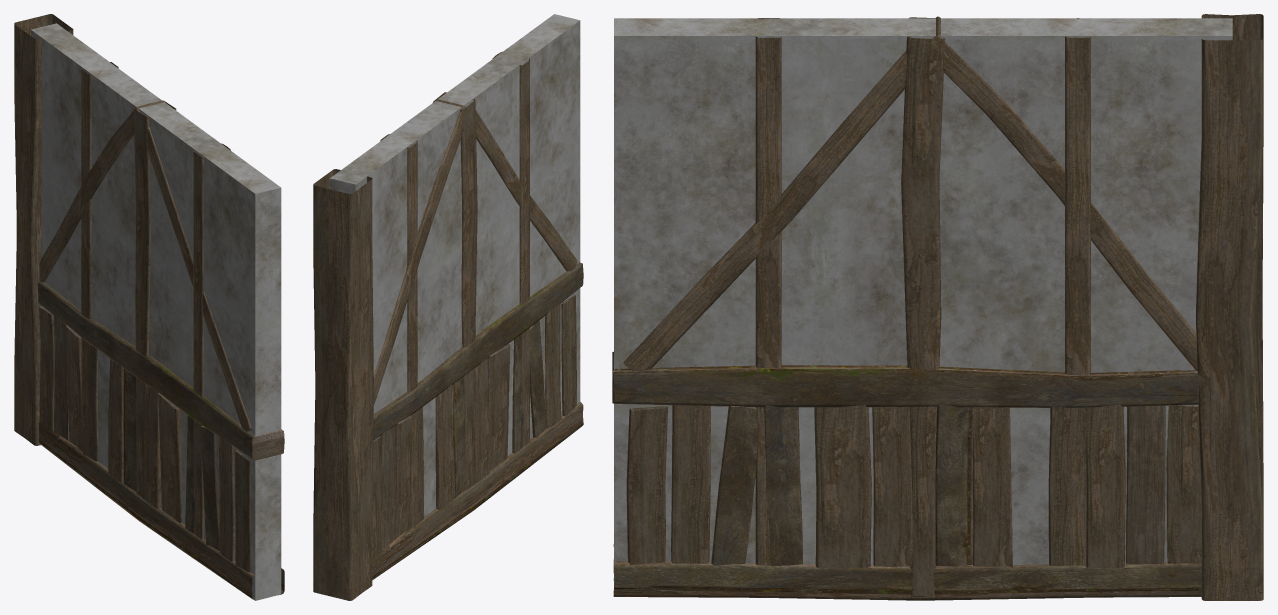
Rendered from SM_Wall15.fbx.
The picture shows the model from 3 angles, left to right: view 1: azimuth 30°, elevation 25°; view 2: azimuth 150°, elevation 25°; view 3: azimuth 270°, elevation 25°; orthographic projection. The views are drawn at different scales.
Visible parts, largest first — view 1: SM_Wall15_LOD0; view 2: SM_Wall15_LOD0; view 3: SM_Wall15_LOD0.
Boxes of the visible parts, bbox=[...] form: SM_Wall15_LOD0: bbox=[14, 14, 284, 600]; SM_Wall15_LOD0: bbox=[313, 14, 583, 600]; SM_Wall15_LOD0: bbox=[612, 14, 1263, 600].
Bounding box in the file's own units: 33.66 × 316 × 303.
